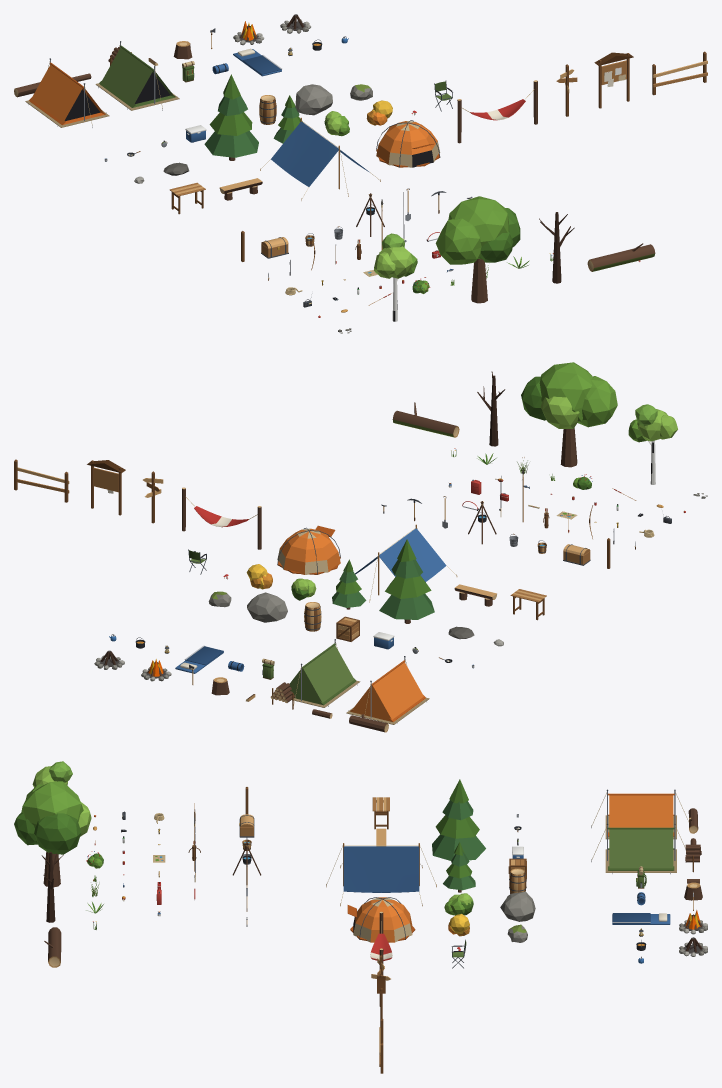
The model's file is _AllProps.obj.
3 renders of one model, top to bottom at view 1: azimuth 30°, elevation 25°; view 2: azimuth 150°, elevation 25°; view 3: azimuth 270°, elevation 25°, orthographic.
Parts seen in each view (by area): view 1: SM_Oak_Tree, SM_Tent_Green, SM_Tent_Orange, SM_Tarp_Shelter, SM_Pine_Tree_Tall, SM_Tent_Dome, SM_Birch_Tree, SM_Notice_Board, SM_Hammock, SM_Fallen_Log_Mossy, SM_Rock_Large, SM_SleepingBag_Open (+5 smaller); view 2: SM_Oak_Tree, SM_Tent_Orange, SM_Tent_Green, SM_Pine_Tree_Tall, SM_Tent_Dome, SM_Tarp_Shelter, SM_Birch_Tree, SM_Notice_Board, SM_Rock_Large, SM_Pine_Tree_Small, SM_Fallen_Log_Mossy, SM_Hammock (+3 smaller); view 3: SM_Oak_Tree, SM_Tarp_Shelter, SM_Tent_Green, SM_Tent_Orange, SM_Pine_Tree_Tall, SM_Tent_Dome, SM_Pine_Tree_Small, SM_Rock_Large, SM_SleepingBag_Open, SM_Birch_Tree, SM_Hammock, SM_Dead_Tree (+2 smaller).
Part boxes in pixels (<box>): SM_Oak_Tree: <box>435,196,520,303</box>; SM_Tent_Green: <box>95,41,179,110</box>; SM_Tent_Orange: <box>25,58,109,127</box>; SM_Tarp_Shelter: <box>260,117,380,200</box>; SM_Pine_Tree_Tall: <box>204,74,258,160</box>; SM_Tent_Dome: <box>376,120,440,167</box>; SM_Birch_Tree: <box>374,233,417,321</box>; SM_Notice_Board: <box>594,52,633,108</box>; SM_Hammock: <box>457,80,537,143</box>; SM_Fallen_Log_Mossy: <box>587,243,655,271</box>; SM_Rock_Large: <box>295,84,332,115</box>; SM_SleepingBag_Open: <box>233,48,281,76</box>; SM_Oak_Tree: <box>521,362,617,467</box>; SM_Tent_Orange: <box>346,656,429,724</box>; SM_Tent_Green: <box>289,639,360,707</box>; SM_Pine_Tree_Tall: <box>379,539,434,623</box>; SM_Tent_Dome: <box>277,525,340,574</box>; SM_Tarp_Shelter: <box>355,524,457,602</box>; SM_Birch_Tree: <box>628,404,677,484</box>; SM_Notice_Board: <box>87,460,125,515</box>; SM_Rock_Large: <box>247,592,287,622</box>; SM_Pine_Tree_Small: <box>332,559,366,609</box>; SM_Fallen_Log_Mossy: <box>392,402,459,437</box>; SM_Hammock: <box>182,487,261,549</box>; SM_Oak_Tree: <box>14,781,91,887</box>; SM_Tarp_Shelter: <box>326,843,436,906</box>; SM_Tent_Green: <box>591,823,685,874</box>; SM_Tent_Orange: <box>591,789,688,839</box>; SM_Pine_Tree_Tall: <box>432,779,485,860</box>; SM_Tent_Dome: <box>347,897,415,942</box>; SM_Pine_Tree_Small: <box>443,842,475,892</box>; SM_Rock_Large: <box>500,891,535,921</box>; SM_SleepingBag_Open: <box>612,913,670,924</box>; SM_Birch_Tree: <box>32,761,72,787</box>; SM_Hammock: <box>370,911,392,975</box>; SM_Dead_Tree: <box>41,852,63,922</box>.
Size of the model in its own units: 20.97 by 3.83 by 23.87.
2 materials, 2 textured.
